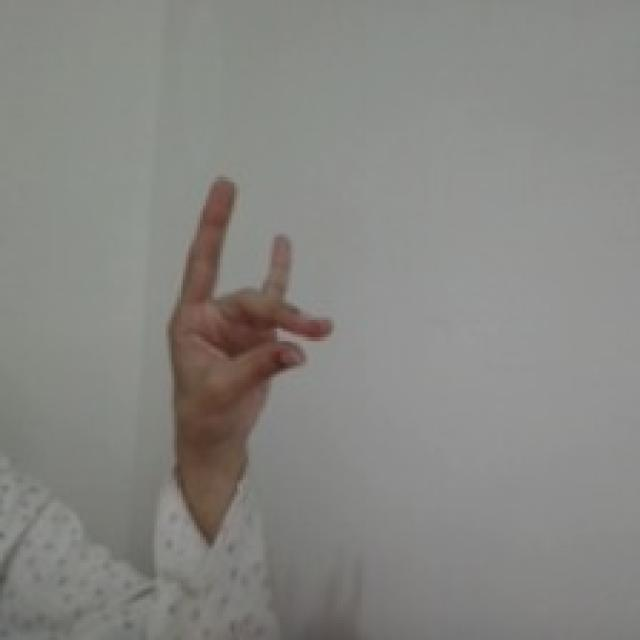Dog: (158, 170, 339, 452)
